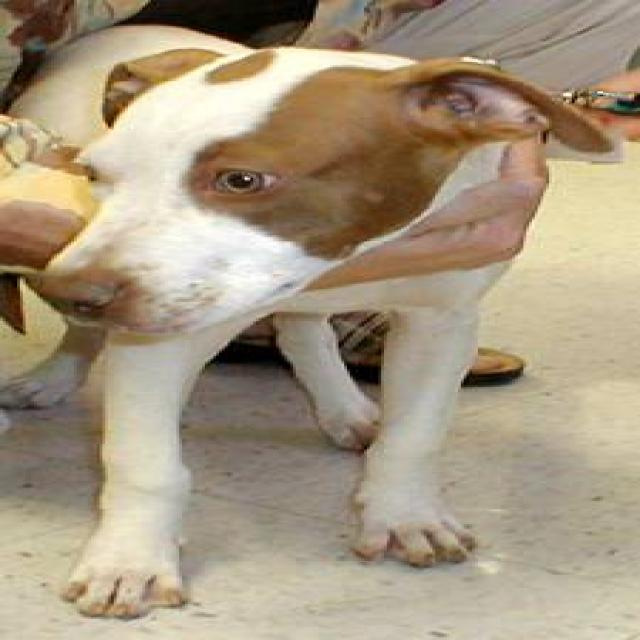dog: (0, 21, 612, 619)
